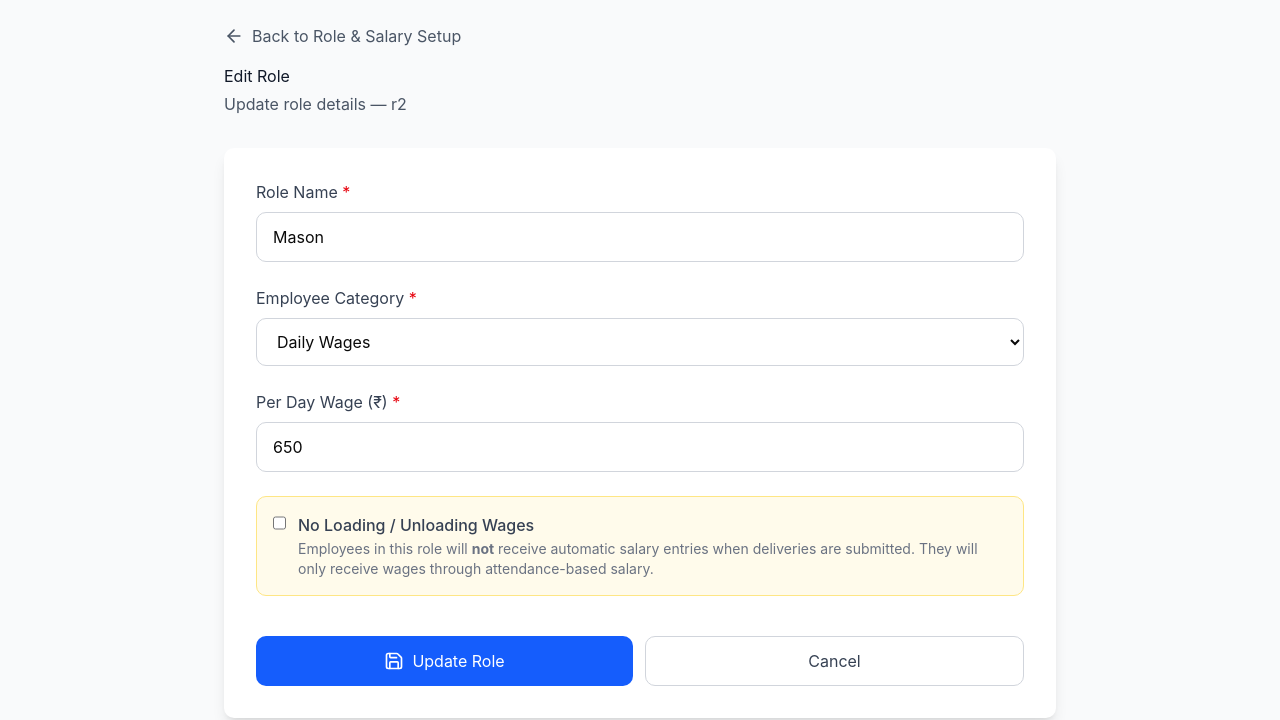
Scenario: EditRoleScreen › changing the category › asks for confirmation first, warning that salary fields will be cleared
Expected: the field labelled "Role Name *" holds "Mason", 256,212 -> 1024,262
Select "Fixed Salary" in the dropdown labelled "Employee Category *" at point(640, 342), box 256,318 -> 1024,366
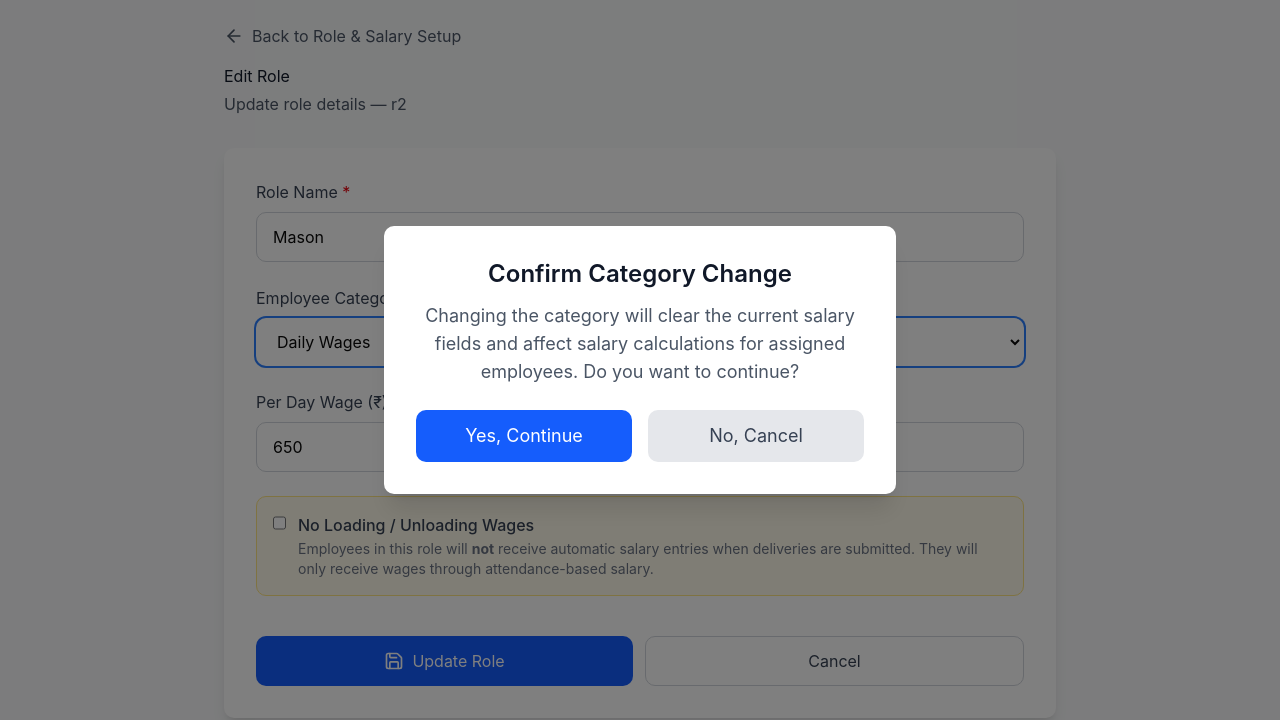
Expected: the heading "Confirm Category Change" is shown, 488,258 -> 792,290
Expected: the text "Changing the category will clear the current salary fields" is shown, 425,305 -> 855,382
